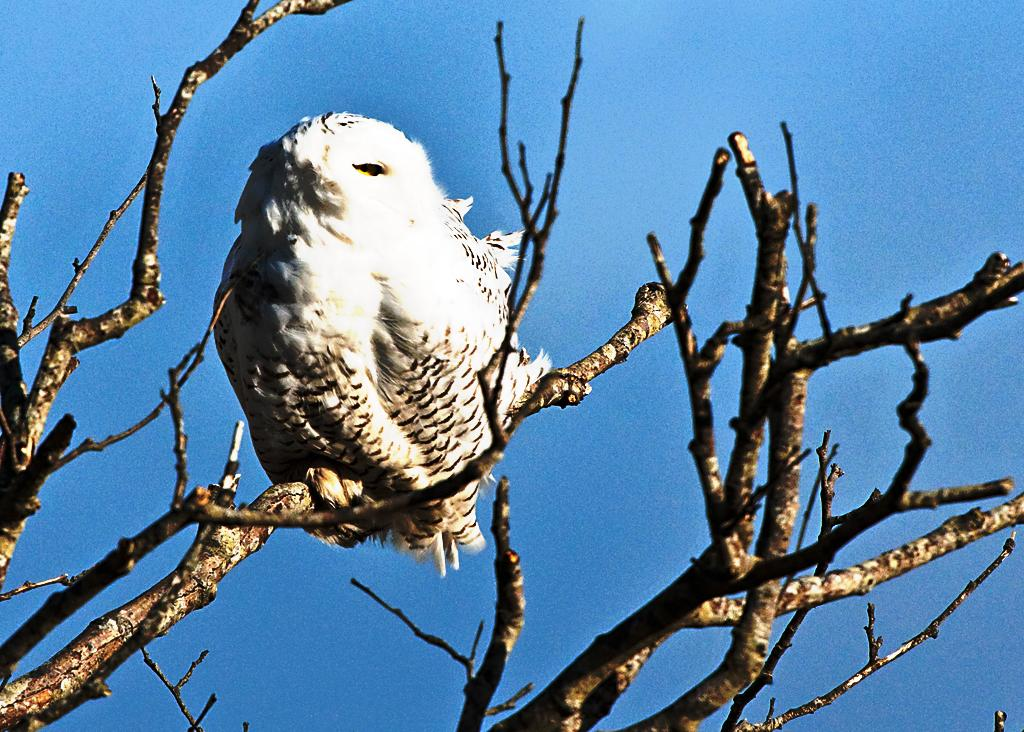Owl: (210, 107, 554, 582)
